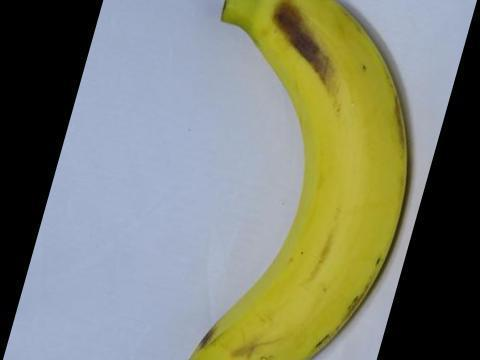freshripe: (175, 0, 414, 359)
